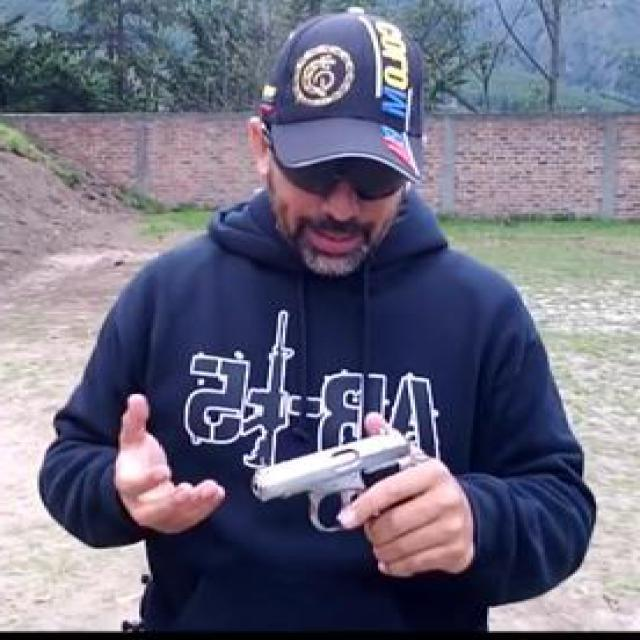Gun: (250, 426, 420, 574)
